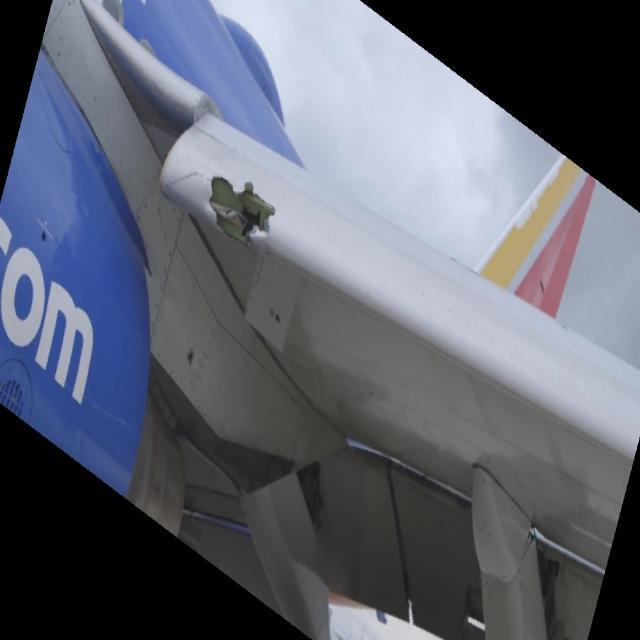crack: (209, 179, 276, 245)
